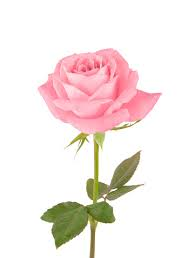lale: (34, 41, 164, 181)
